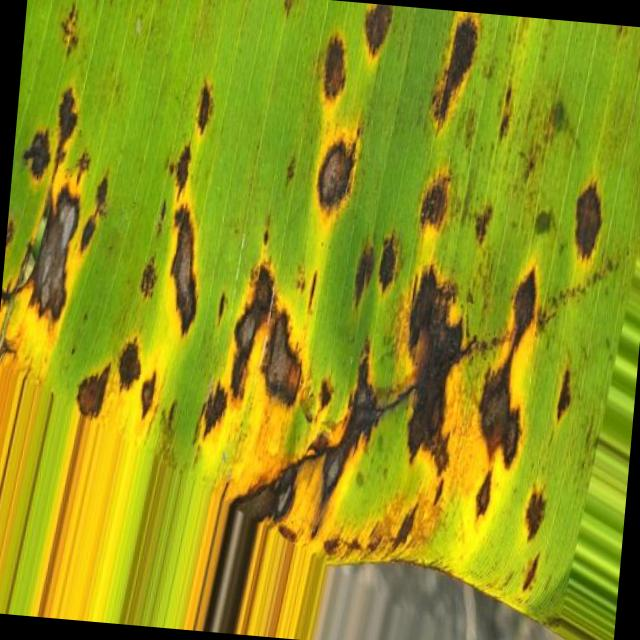Banana_Yellow_Sigatoka: (0, 67, 321, 509), (290, 132, 608, 566)
